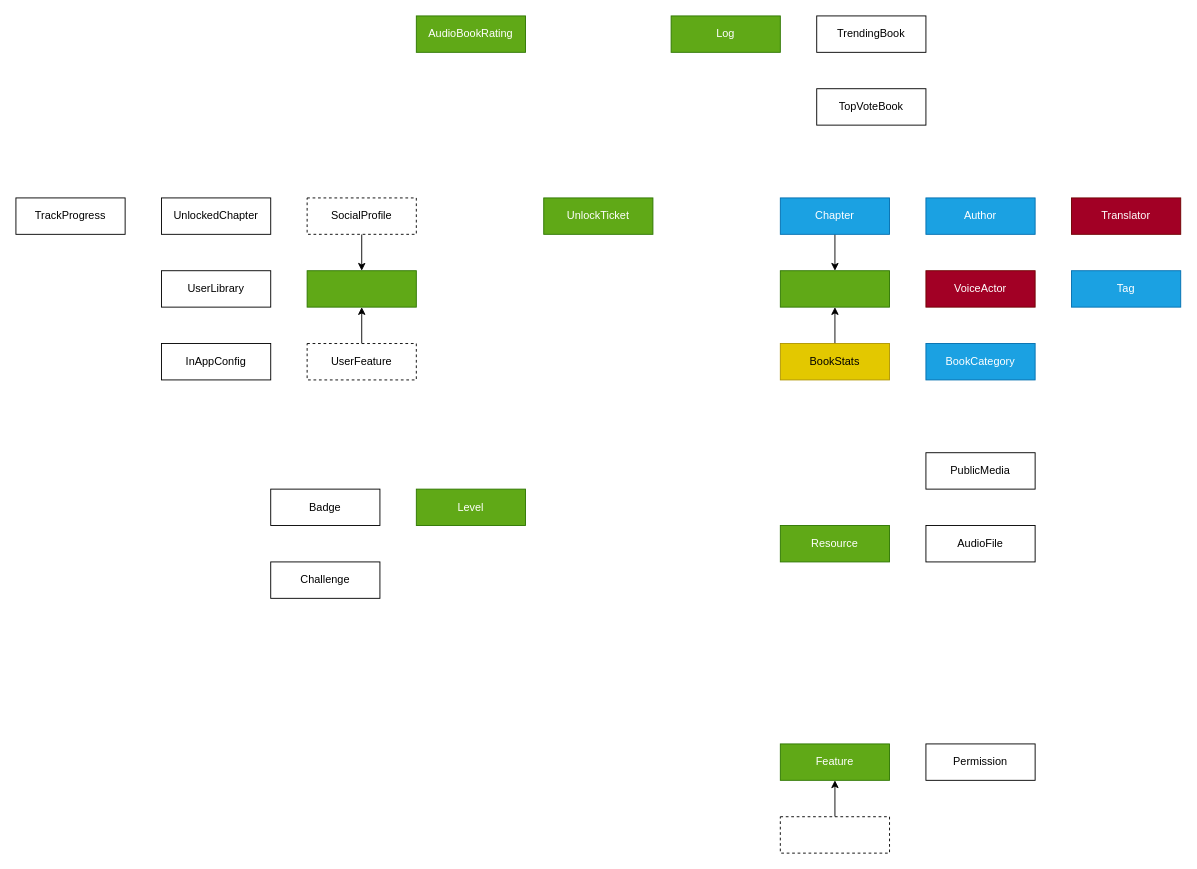
Some shapes in this 1197 by 869 pixel diagram are drawn without their labels. The shapes that lost their labels are listed below. From the top down, each one's centre as x and y in pixels, then its label:
At [361,288]: "User".
At [834,288]: "AudioBook".
At [834,834]: "FeatureMapping".
